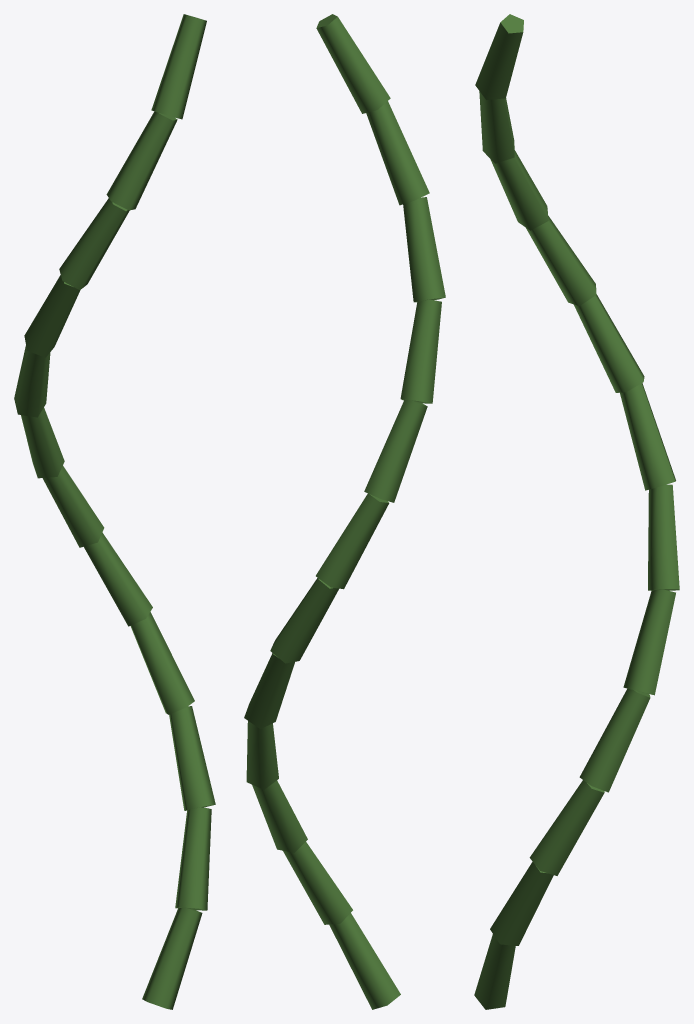
File: stem-vine.glb
The picture shows the model from 3 angles, left to right: view 1: azimuth 30°, elevation 25°; view 2: azimuth 150°, elevation 25°; view 3: azimuth 270°, elevation 25°; orthographic projection. The views are drawn at different scales.
Parts seen in each view (by area): view 1: tint-surface; view 2: tint-surface; view 3: tint-surface.
Part boxes in pixels (left/top/right/bottom): tint-surface: left=14, top=14, right=215, bottom=1009; tint-surface: left=244, top=14, right=445, bottom=1009; tint-surface: left=474, top=14, right=679, bottom=1009.
Size of the model in its own units: 0.1885 by 1.01 by 0.1868.
